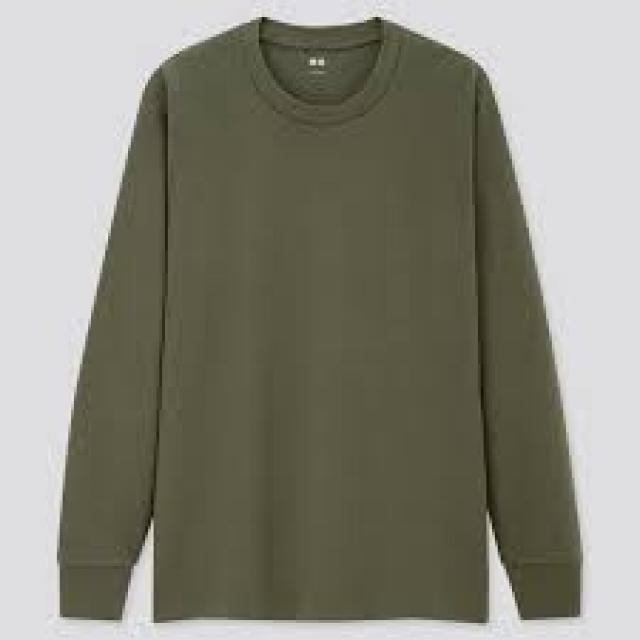plain: (38, 14, 585, 627)
